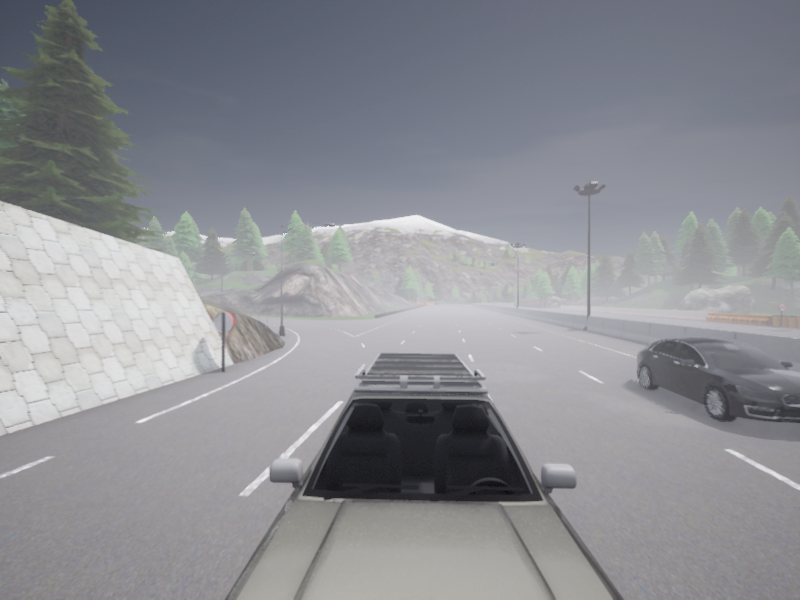vehicle: (225, 353, 623, 599), (637, 337, 799, 422)
